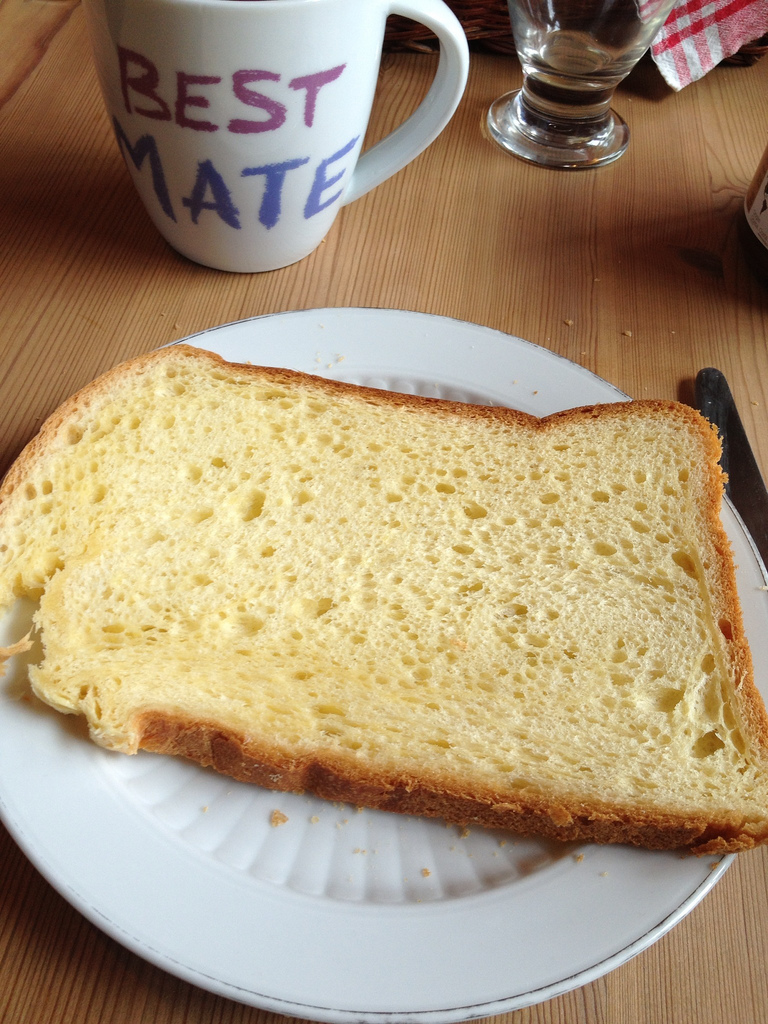glass of water: (492, 1, 654, 161)
slice of bread: (12, 357, 734, 839)
